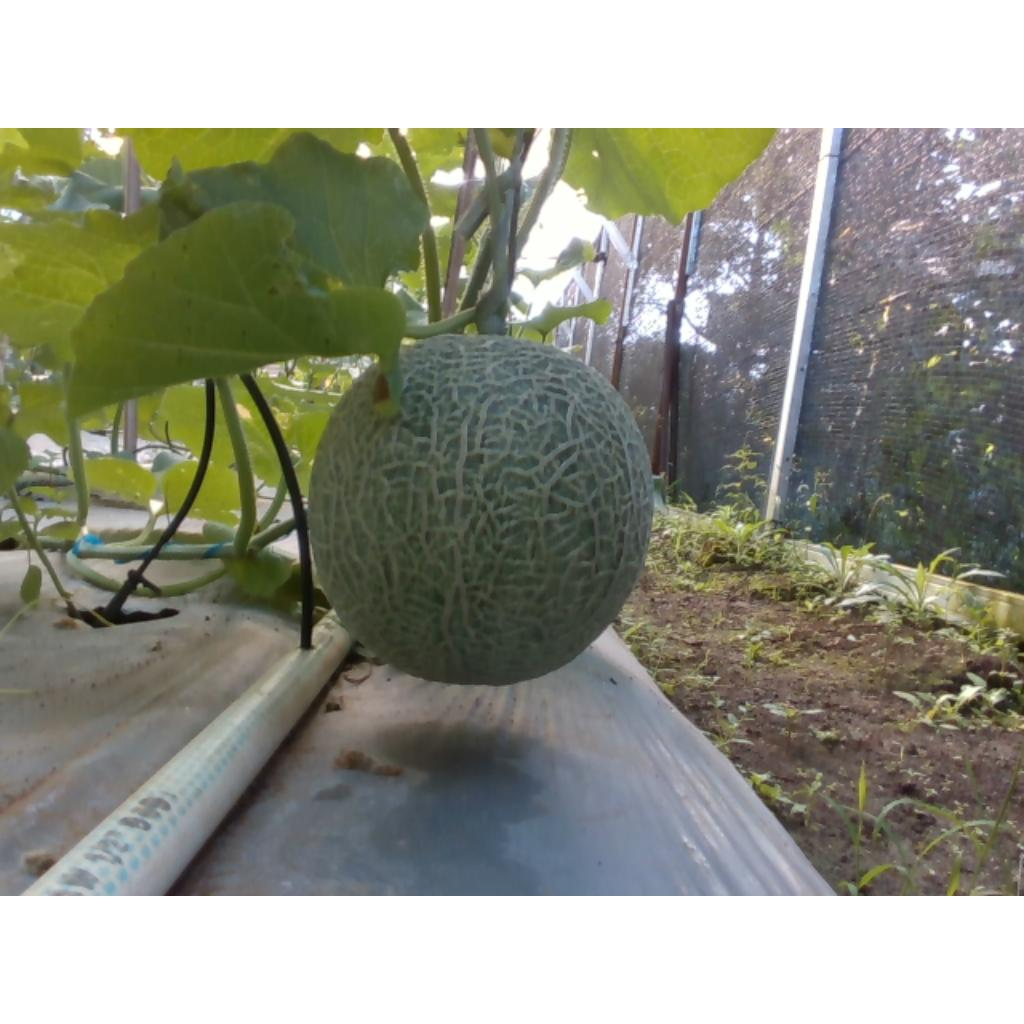melon: (312, 334, 651, 686)
